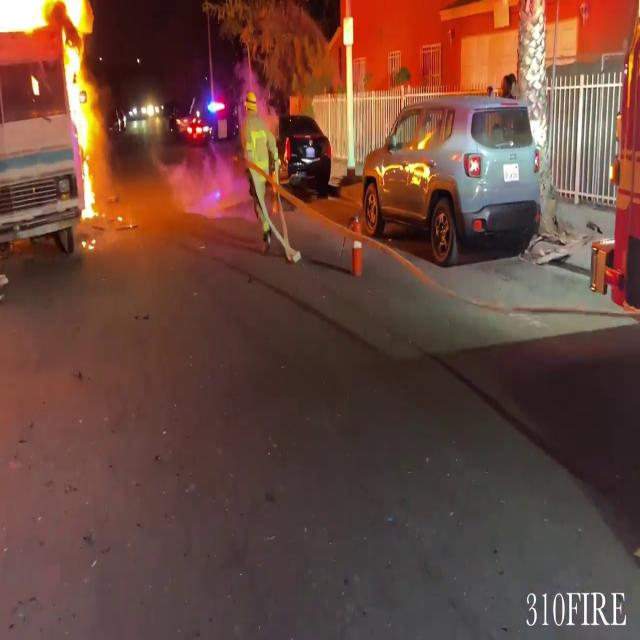Fire: (53, 0, 108, 218)
